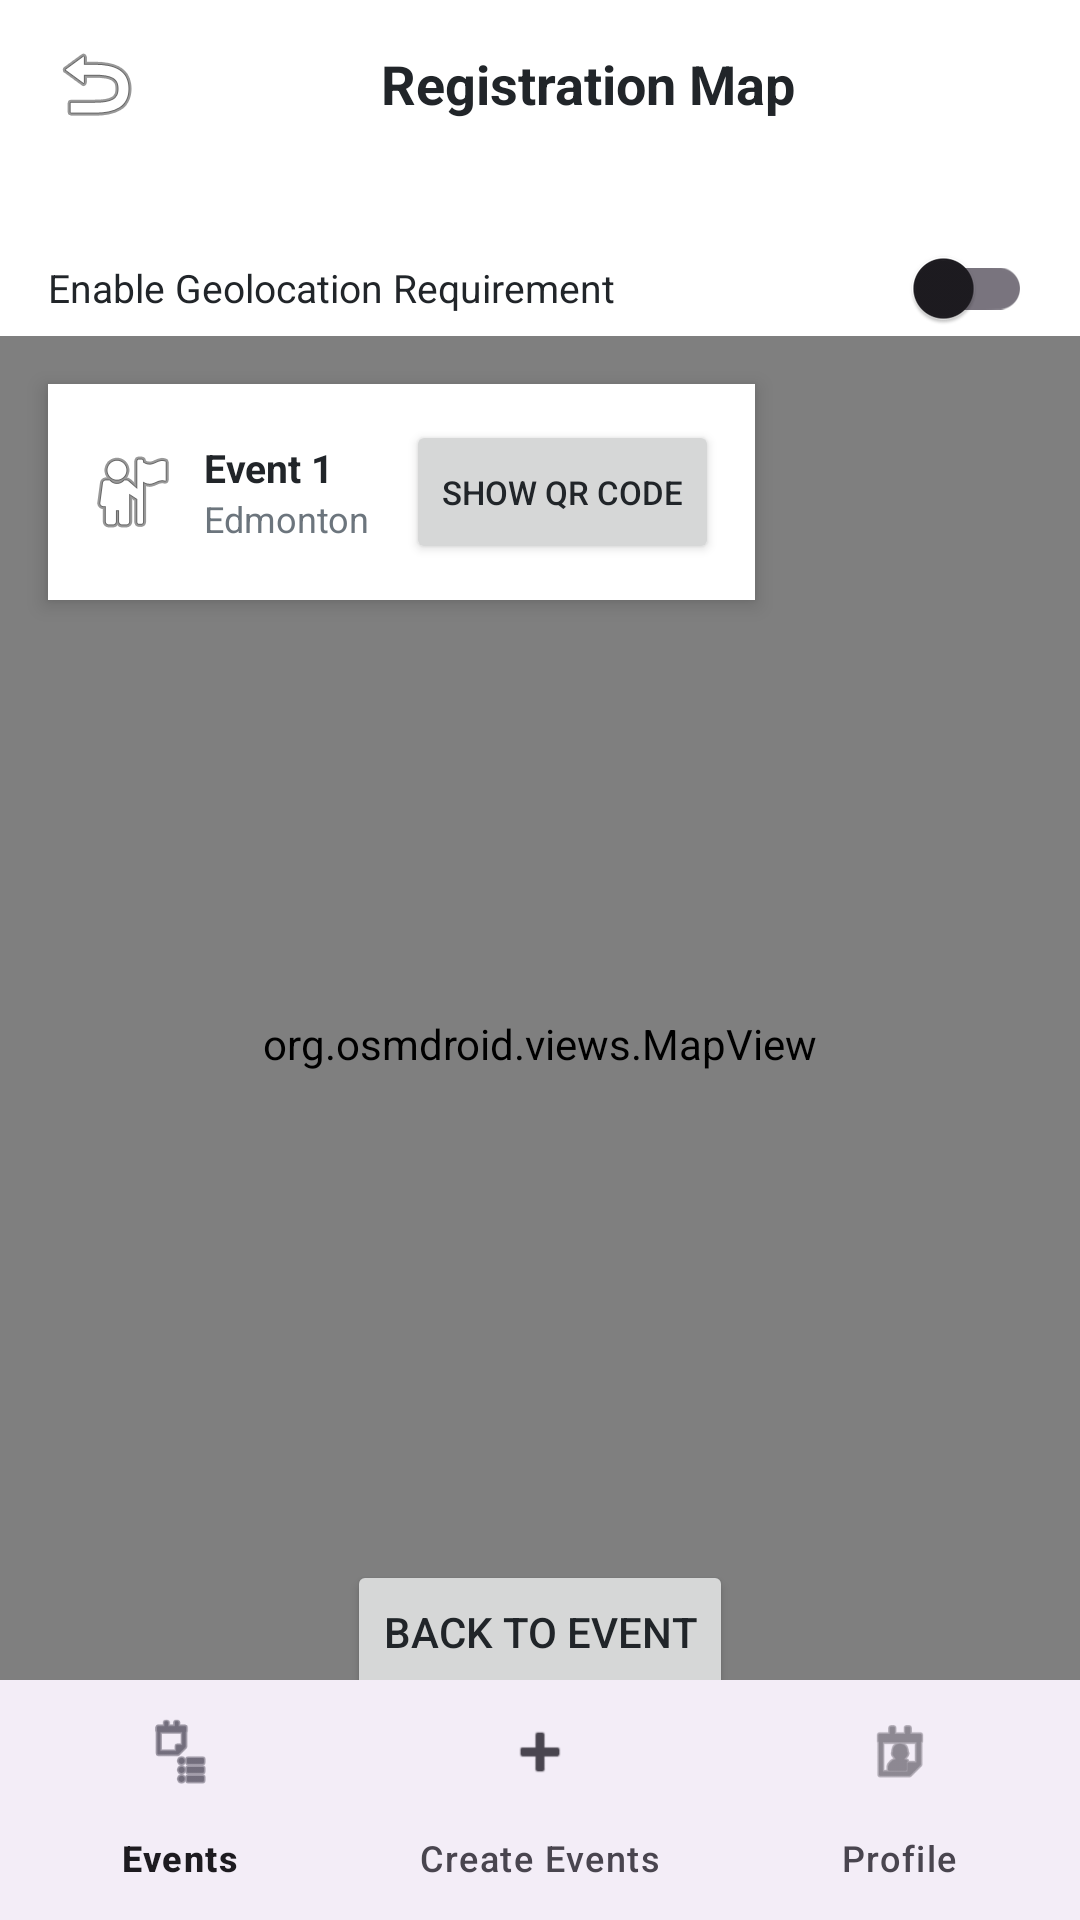

Point at icon controls on the screen. Image size 1080px×1920px, points as (x,y).
Back: (97,84)
Organizer avatar: (133,492)
